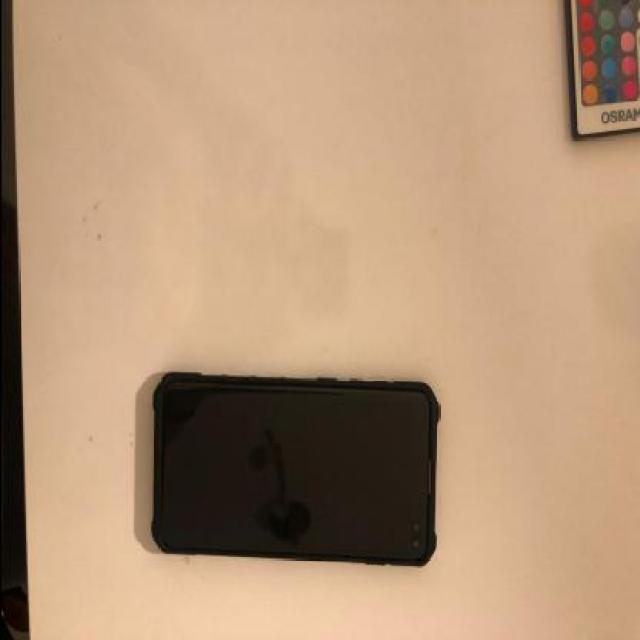phone: (152, 376, 441, 567)
